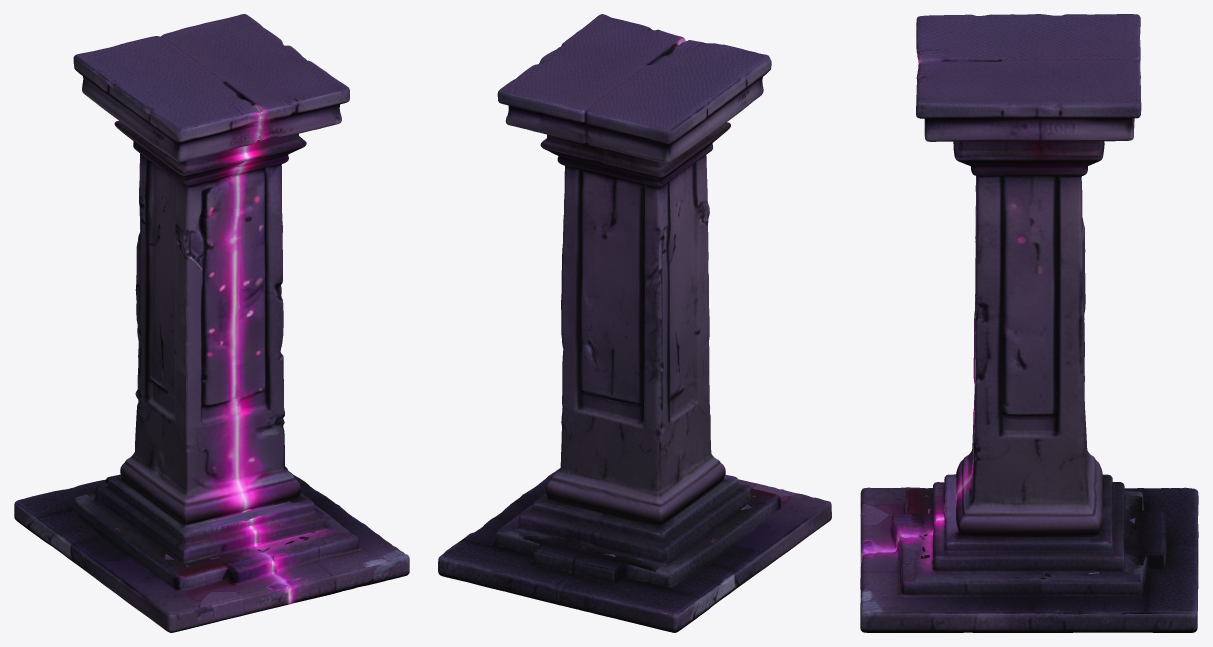
Rendered from weathered-monolith-pillar-generated-2026-04-19T23-48-08-244Z.glb.
3 views of the same model, side by side, from view 1: azimuth 30°, elevation 25°; view 2: azimuth 150°, elevation 25°; view 3: azimuth 270°, elevation 25° (orthographic). The views are drawn at different scales.
Parts seen in each view (by area): view 1: temp_mesh.ply; view 2: temp_mesh.ply; view 3: temp_mesh.ply.
Part boxes in pixels (x1,y1,x2,y2): temp_mesh.ply: (14,14,409,632); temp_mesh.ply: (438,14,831,632); temp_mesh.ply: (860,14,1198,632).
Size of the model in its own units: 1.05 by 1.97 by 1.18.
1 material, 1 textured.
